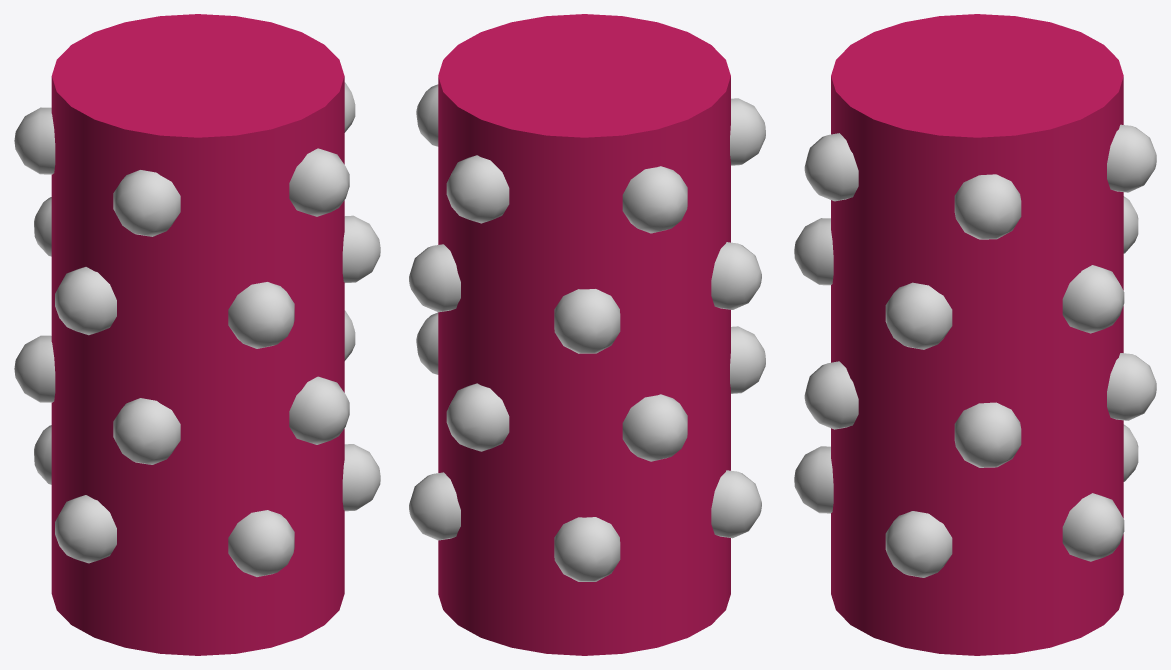
The model's file is rolling_pink.fbx.
The picture shows the model from 3 angles, left to right: view 1: azimuth 30°, elevation 25°; view 2: azimuth 150°, elevation 25°; view 3: azimuth 270°, elevation 25°; orthographic projection.
Visible parts, largest first — view 1: rolling_pink; view 2: rolling_pink; view 3: rolling_pink.
Part boxes in pixels (x1=…): rolling_pink: x1=14, y1=14, x2=380, y2=655; rolling_pink: x1=409, y1=14, x2=765, y2=655; rolling_pink: x1=794, y1=14, x2=1156, y2=655.
Bounding box in the file's own units: 0.2035 × 0.3204 × 0.2031.
